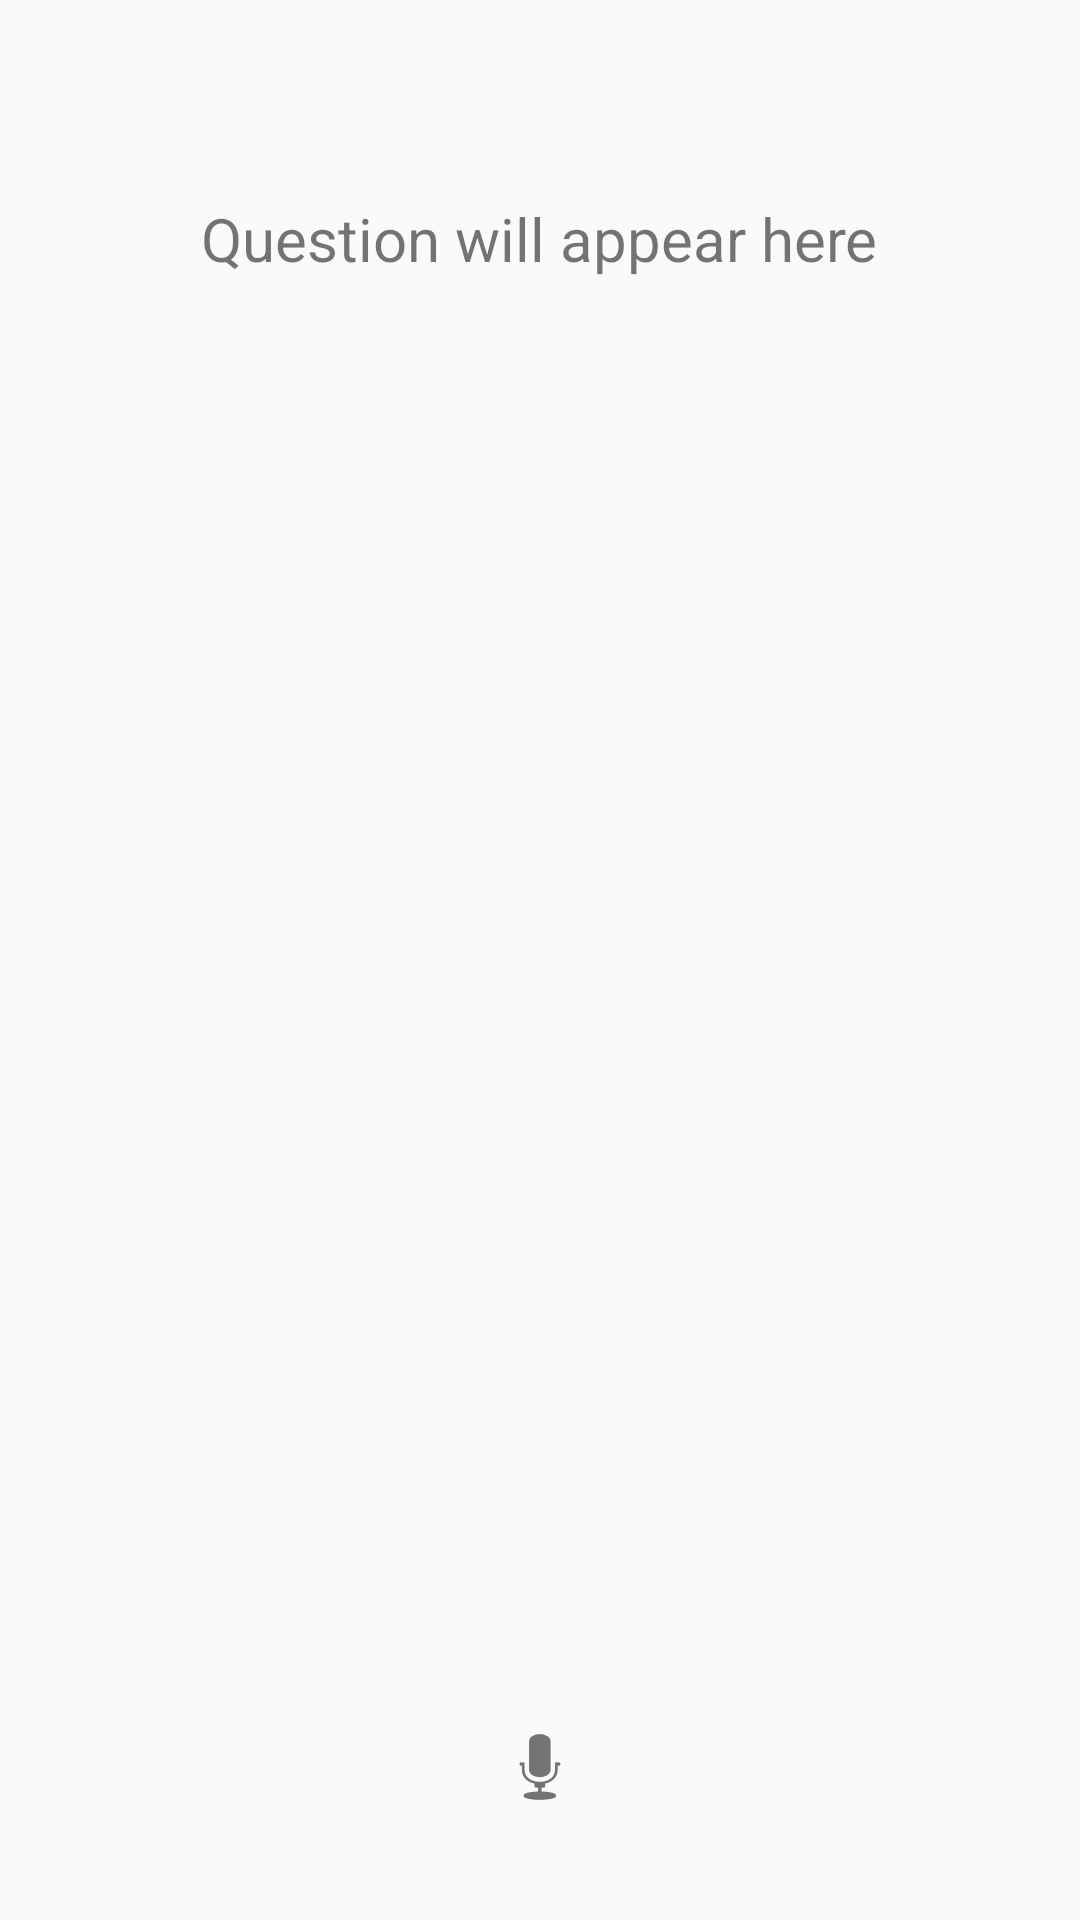

Icon bounding boxes for this 1080px×1920px phone screenshot, format (x1, y1, x2, y2):
Mic Button: (519, 1734, 561, 1800)
